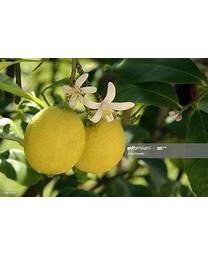lemon: (24, 105, 85, 176), (72, 115, 126, 174)
